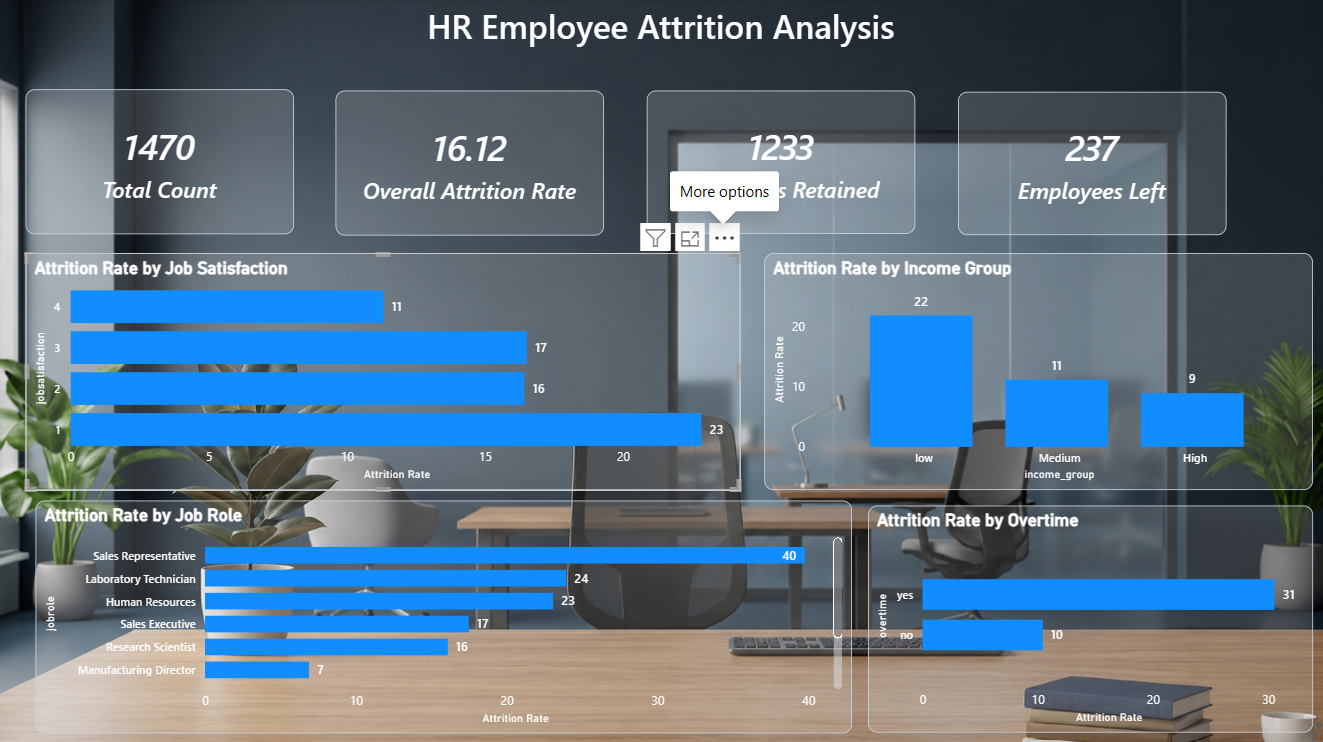

The dashboard page shown, as its layout file describes it:
{"tool":"powerbi","page":{"name":"Page 1","canvas":[1280,720],"ordinal":0},"visuals":[{"type":"card","fields":{"Values":["hr_analytics employee_attrition.Total Count"]},"box":[26.1,88.3,259.3,140],"z":0},{"type":"card","fields":{"Values":["hr_analytics employee_attrition.Overall Attrition Rate"]},"box":[326.1,89.2,259.3,140],"z":1000},{"type":"card","fields":{"Values":["hr_analytics employee_attrition.Employees Retained"]},"box":[626.2,89.2,259.3,138.6],"z":2000},{"type":"card","fields":{"Values":["hr_analytics employee_attrition.Employees Left"]},"box":[926.2,90.6,259.3,138.6],"z":3000},{"type":"barChart","title":"Attrition Rate by Job Satisfaction","fields":{"Y":["hr_analytics employee_attrition.Attrition Rate"],"Category":["hr_analytics employee_attrition.jobsatisfaction"]},"box":[26.1,245.6,690.2,229.2],"z":4000},{"type":"columnChart","title":"Attrition Rate by Income Group","fields":{"Category":["hr_analytics employee_attrition.income_group"],"Y":["hr_analytics employee_attrition.Attrition Rate"]},"box":[739.6,245.6,529.7,229.2],"z":5000},{"type":"barChart","title":"Attrition Rate by Overtime","fields":{"Y":["hr_analytics employee_attrition.Attrition Rate"],"Category":["hr_analytics employee_attrition.overtime"]},"box":[839.8,489.9,429.5,219.6],"z":6000},{"type":"clusteredBarChart","title":"Attrition Rate by  Job Role","fields":{"Category":["hr_analytics employee_attrition.jobrole"],"Y":["hr_analytics employee_attrition.Attrition Rate"]},"box":[35.7,484.4,787.7,225],"z":7000},{"type":"textbox","box":[347.7,0,584.6,68.6],"z":8000}]}

Visuals, with their boxes in screenshot pixels (x1, y1, x2, y2), scaled from the page's 1280x720 canvas onto the 1323x742 screenshot:
card - hr_analytics employee_attrition.Total Count: (left=27, top=91, right=295, bottom=235)
card - hr_analytics employee_attrition.Overall Attrition Rate: (left=337, top=92, right=605, bottom=236)
card - hr_analytics employee_attrition.Employees Retained: (left=647, top=92, right=915, bottom=235)
card - hr_analytics employee_attrition.Employees Left: (left=957, top=93, right=1225, bottom=236)
"Attrition Rate by Job Satisfaction" barChart: (left=27, top=253, right=740, bottom=489)
"Attrition Rate by Income Group" columnChart: (left=764, top=253, right=1312, bottom=489)
"Attrition Rate by Overtime" barChart: (left=868, top=505, right=1312, bottom=731)
"Attrition Rate by  Job Role" clusteredBarChart: (left=37, top=499, right=851, bottom=731)
textbox: (left=359, top=0, right=964, bottom=71)
